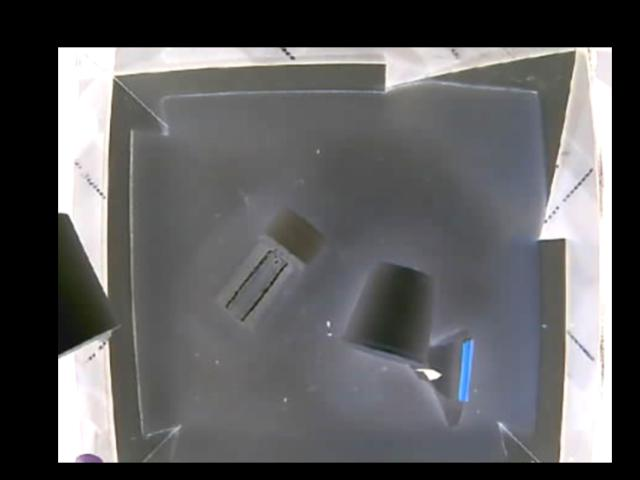Bottle: (212, 210, 323, 330)
China: (409, 335, 472, 425)
Cup: (340, 259, 434, 367)
